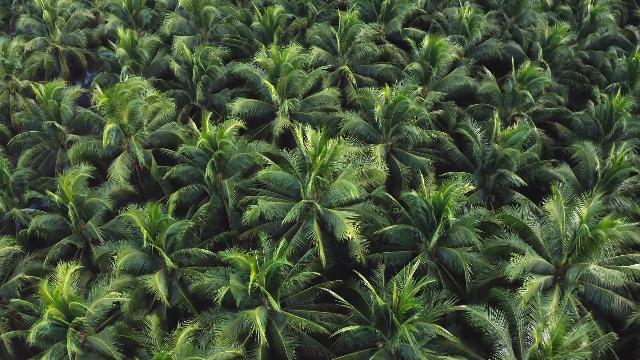trees: (484, 181, 634, 299), (334, 84, 452, 205), (435, 111, 551, 215), (86, 93, 192, 204), (10, 85, 113, 186), (208, 235, 327, 320), (371, 26, 471, 121), (550, 88, 639, 176), (389, 179, 478, 263), (387, 189, 474, 274), (153, 47, 237, 131), (24, 4, 105, 86), (355, 274, 432, 360), (313, 8, 394, 85), (37, 284, 118, 356), (114, 203, 195, 274), (270, 159, 349, 231), (475, 226, 554, 295), (39, 170, 109, 246), (476, 59, 551, 127), (179, 151, 255, 217), (252, 75, 331, 138), (424, 3, 501, 67), (90, 78, 161, 142), (98, 109, 162, 172), (518, 17, 574, 75), (256, 44, 310, 96), (107, 26, 159, 78), (373, 89, 425, 140), (412, 35, 460, 86), (29, 82, 75, 134), (250, 5, 297, 53)
